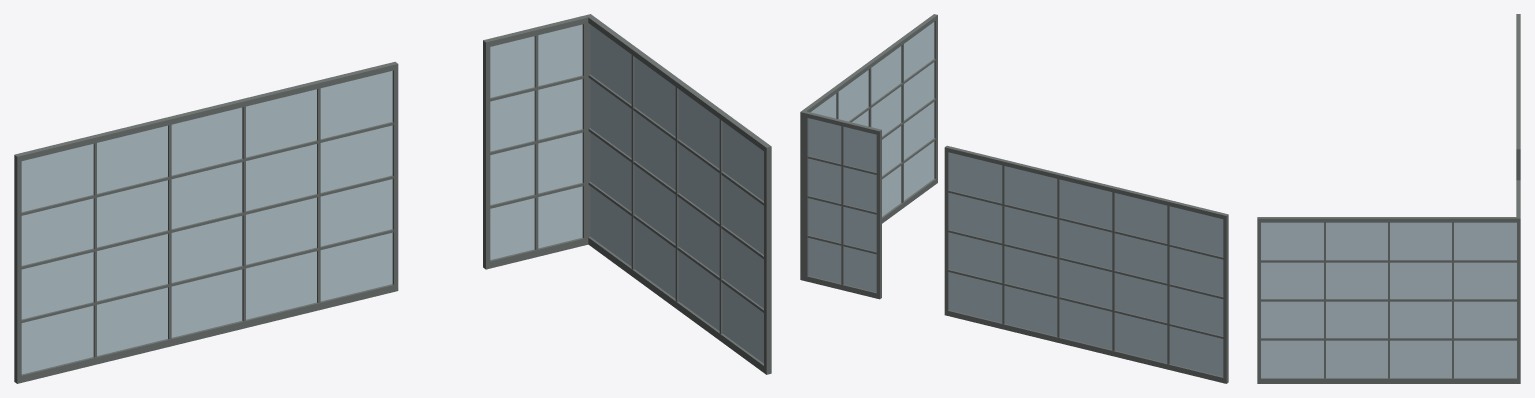
File: partition.glb
3 renders of one model, left to right at view 1: azimuth 30°, elevation 25°; view 2: azimuth 150°, elevation 25°; view 3: azimuth 270°, elevation 25°, orthographic. The views are drawn at different scales.
Visible parts, largest first — view 1: partition_glass, partition_win_k; view 2: partition_glass, partition_win_k; view 3: partition_glass, partition_win_k.
Boxes of the visible parts, x1=… form: partition_glass: x1=21, y1=24, x2=763, y2=374; partition_win_k: x1=14, y1=14, x2=771, y2=383; partition_glass: x1=808, y1=22, x2=1223, y2=376; partition_win_k: x1=800, y1=14, x2=1228, y2=383; partition_glass: x1=1261, y1=222, x2=1516, y2=377; partition_win_k: x1=1257, y1=14, x2=1520, y2=383.
Size of the model in its own units: 6.58 by 2.48 by 3.58.
